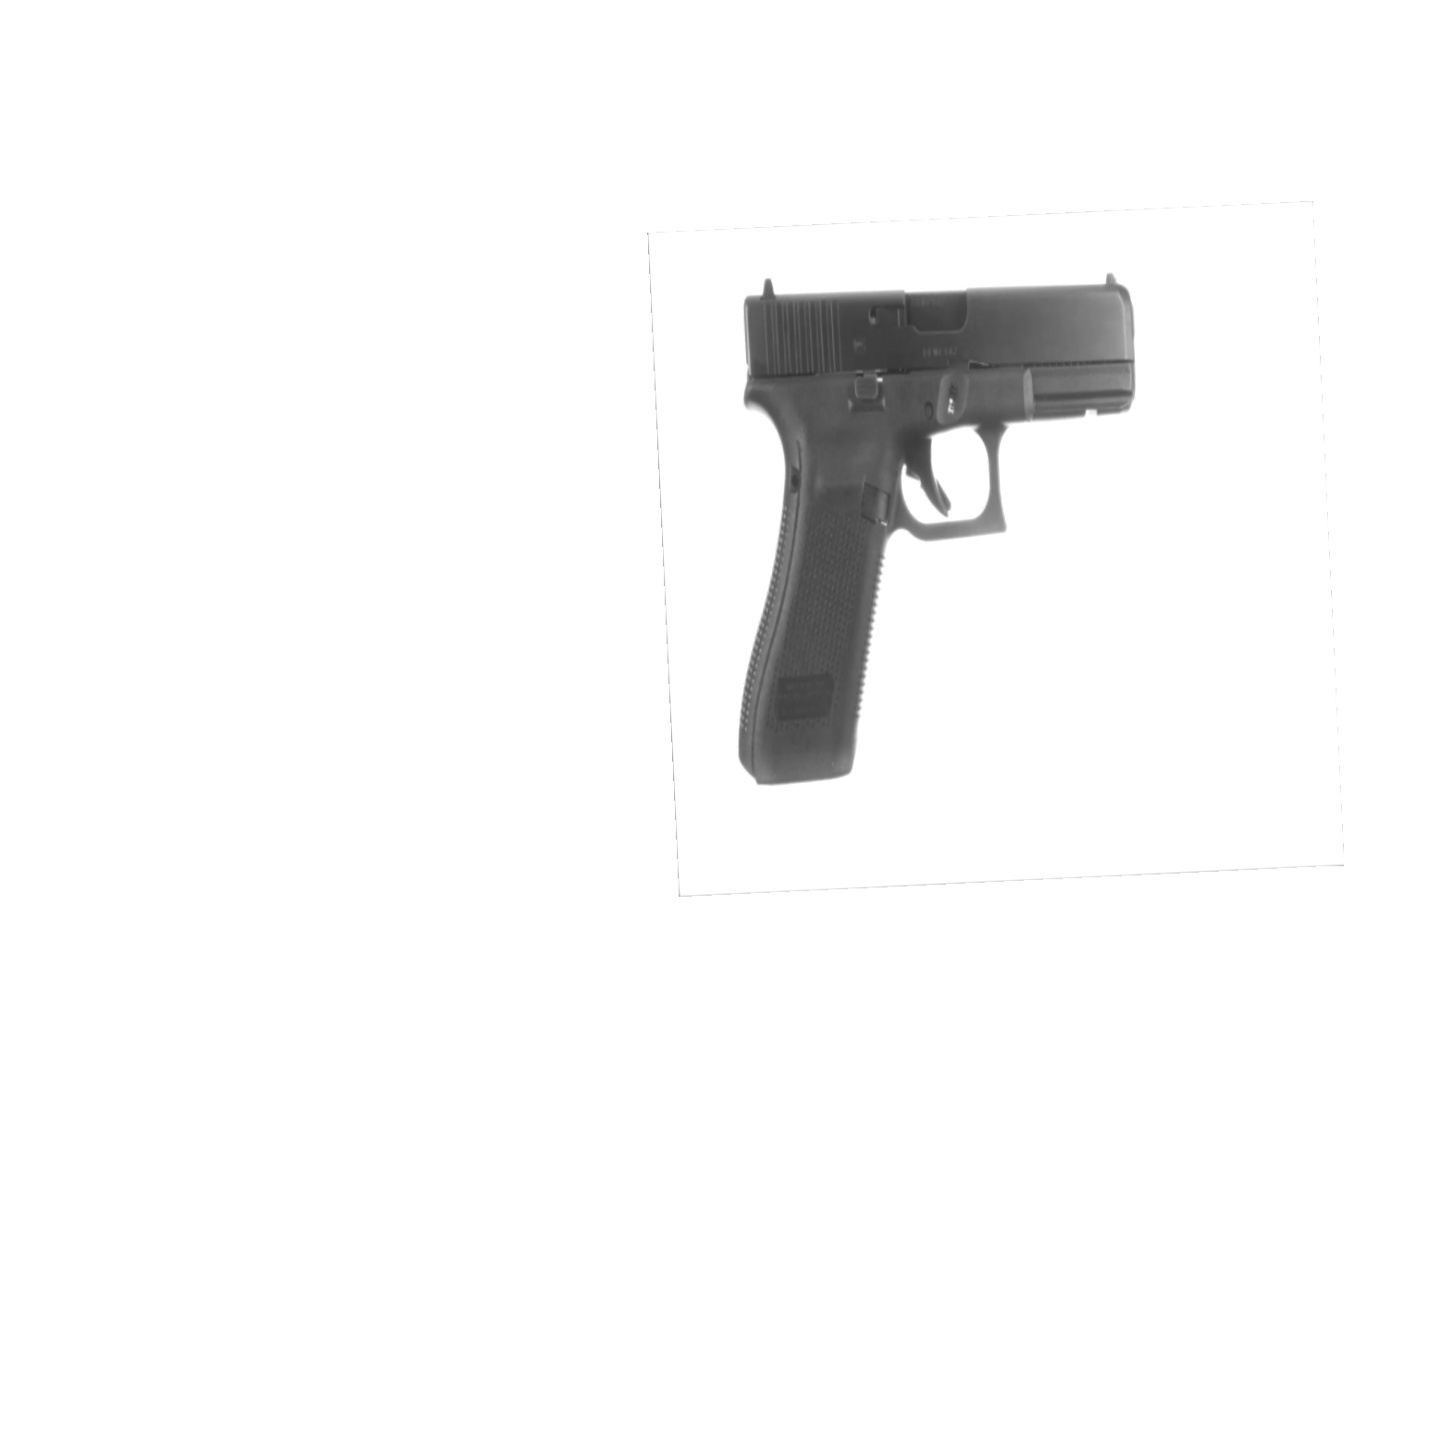gun: (731, 266, 1154, 790)
